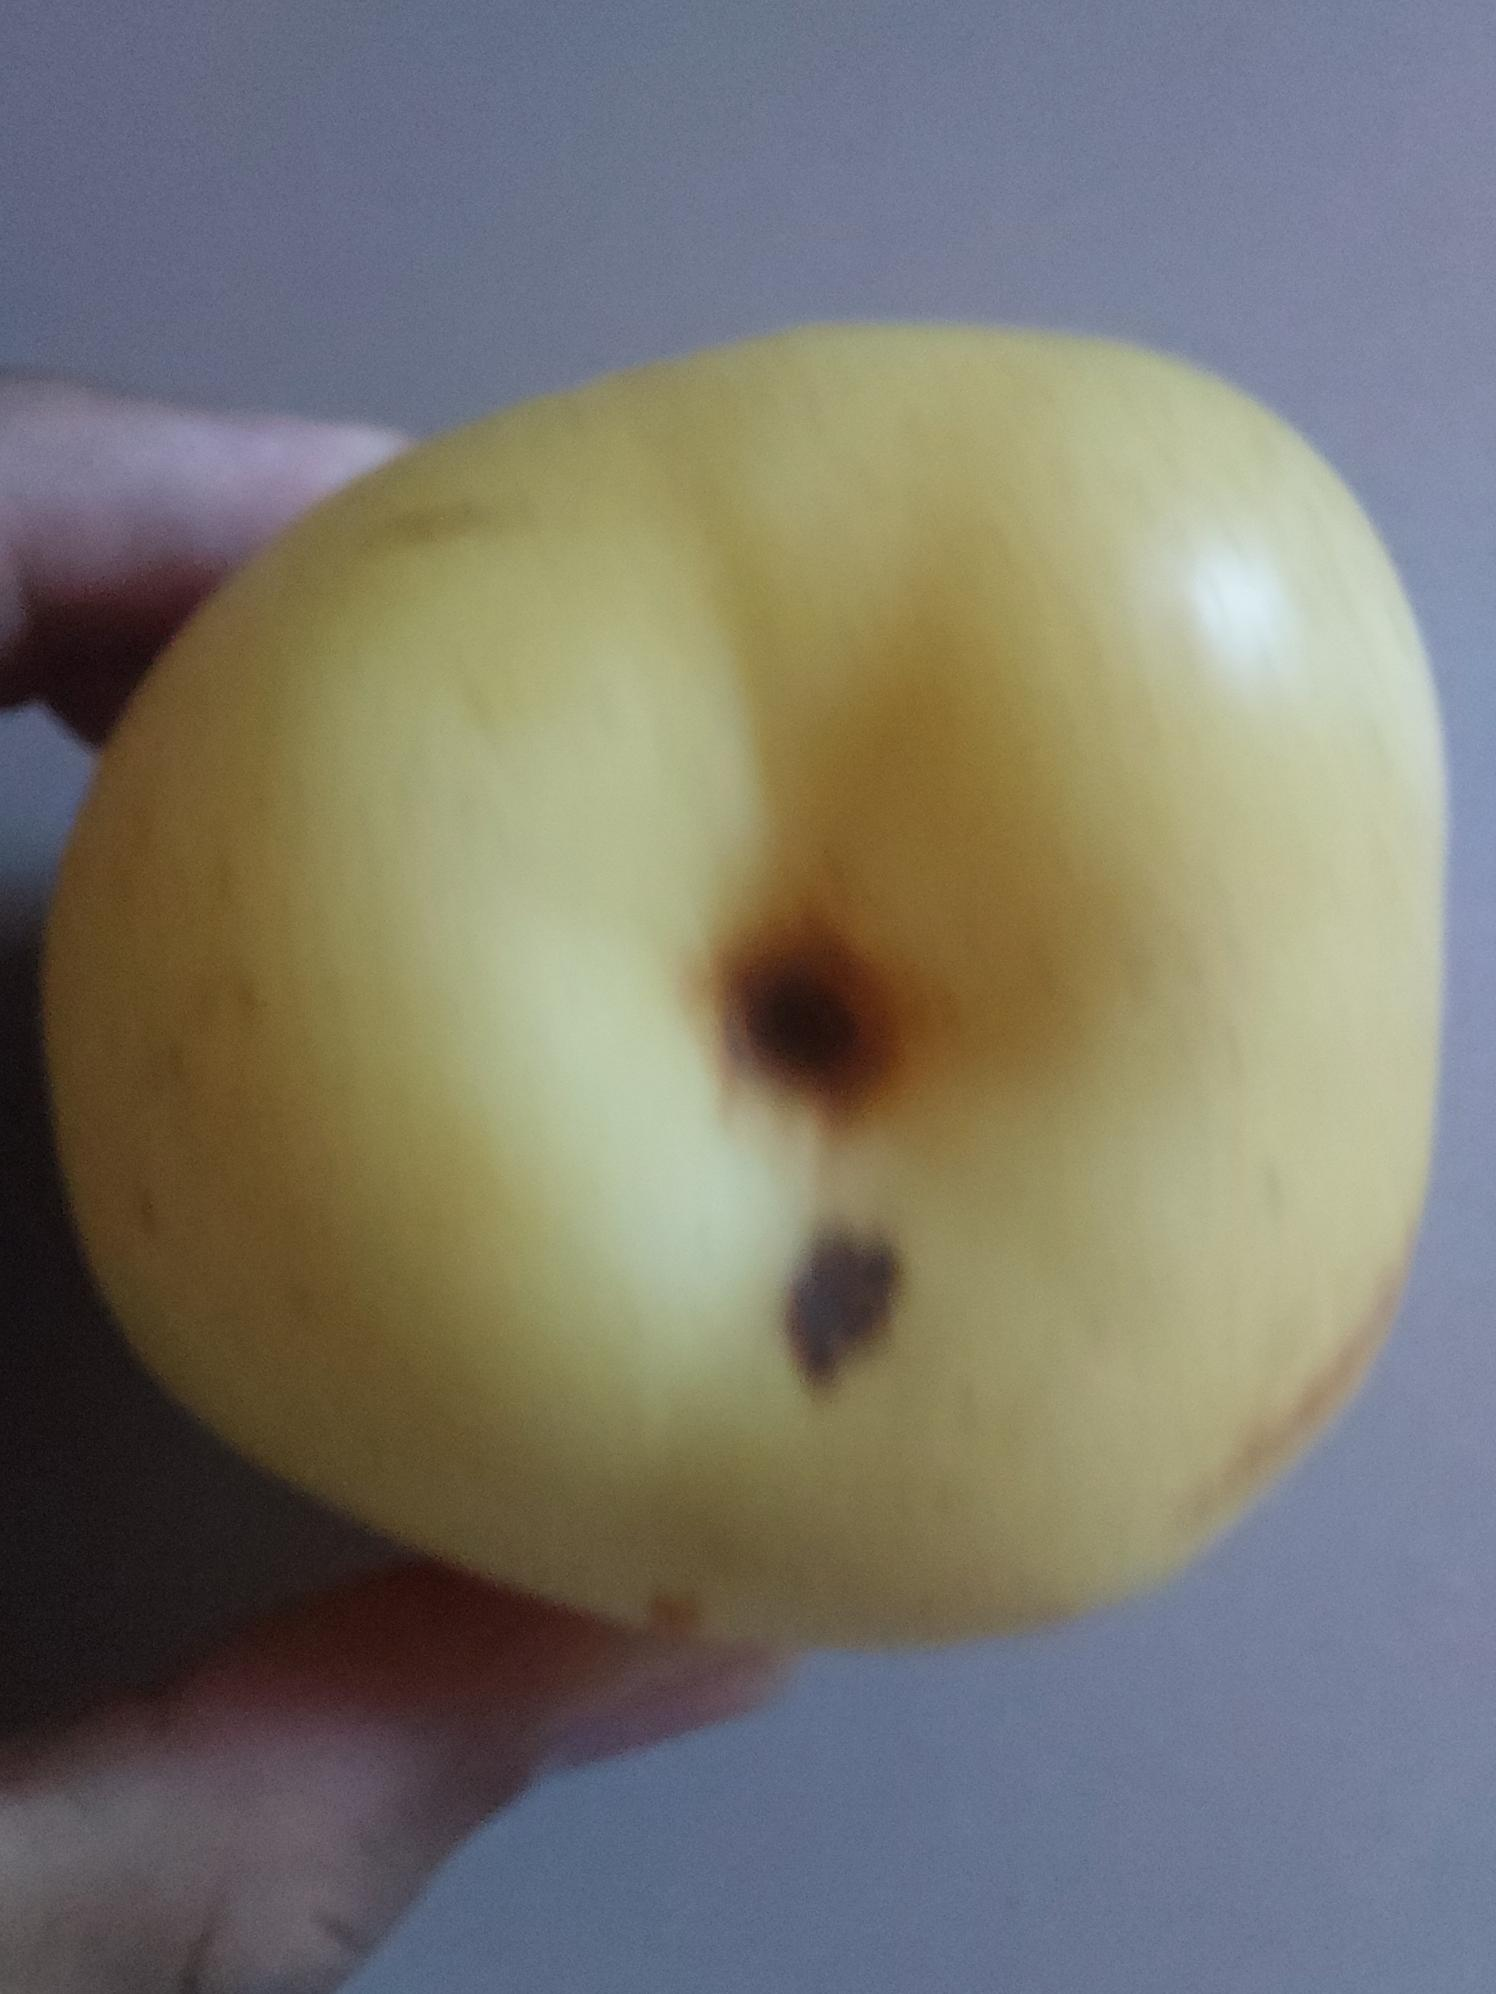Good Pear: (38, 303, 1460, 1662)
